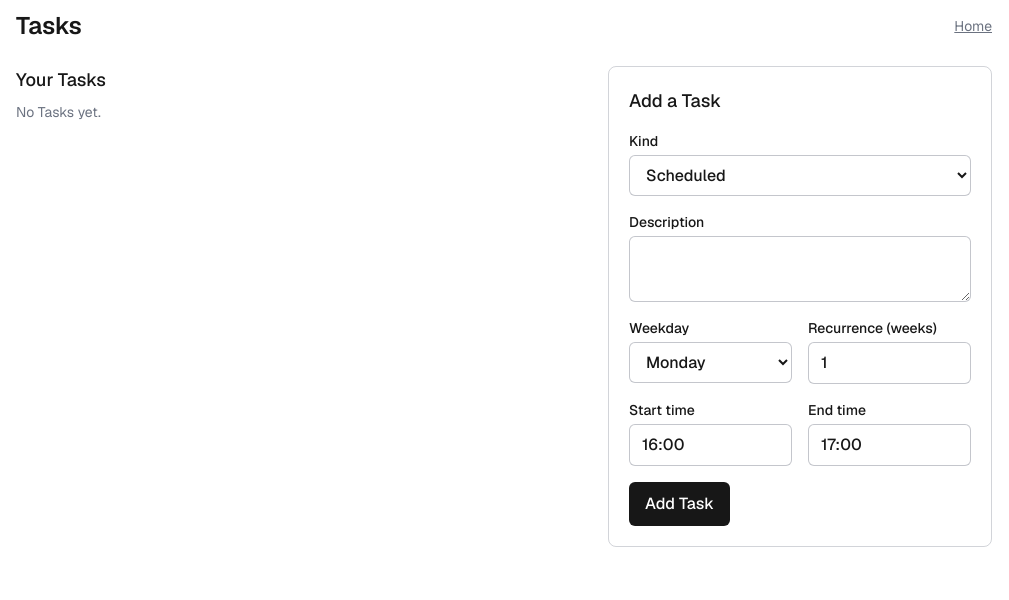
Test: Tasks page › submits 24-hour times typed as digits
Replace the text in the field labelled "Start time" with "1600" at (710, 445), box [629,424,792,466]
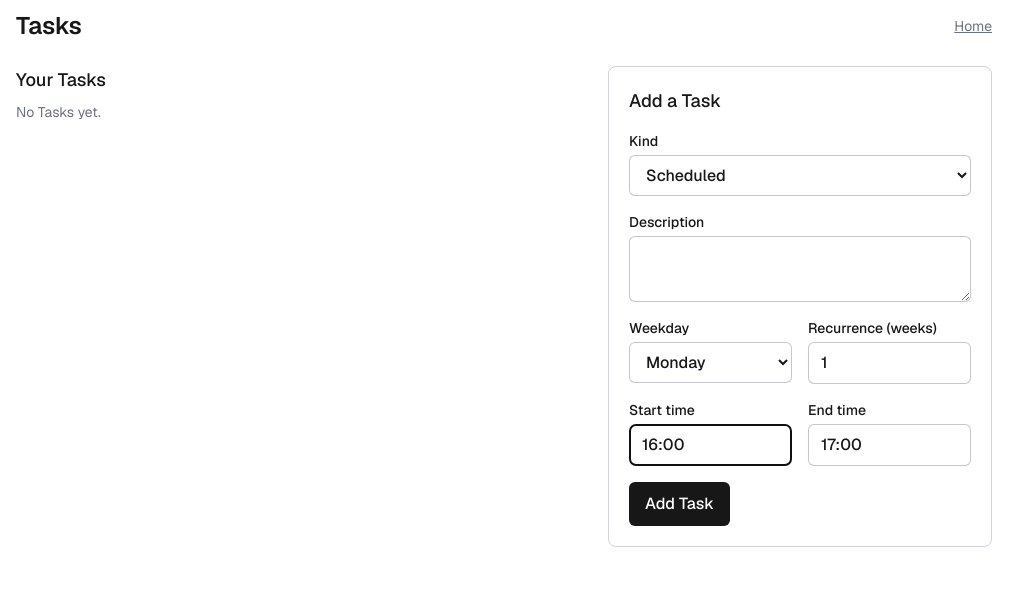
Replace the text in the field labelled "End time" with "1730" at (890, 445), box [808,424,971,466]
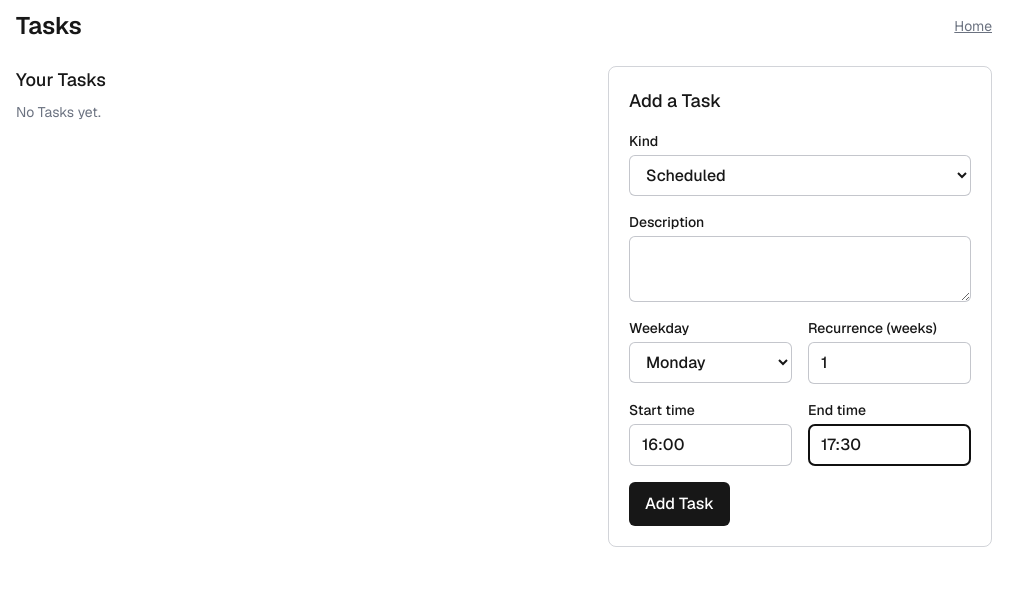
Type "Morning run" into the text box labelled "Description" at (800, 269), box [629,236,971,302]
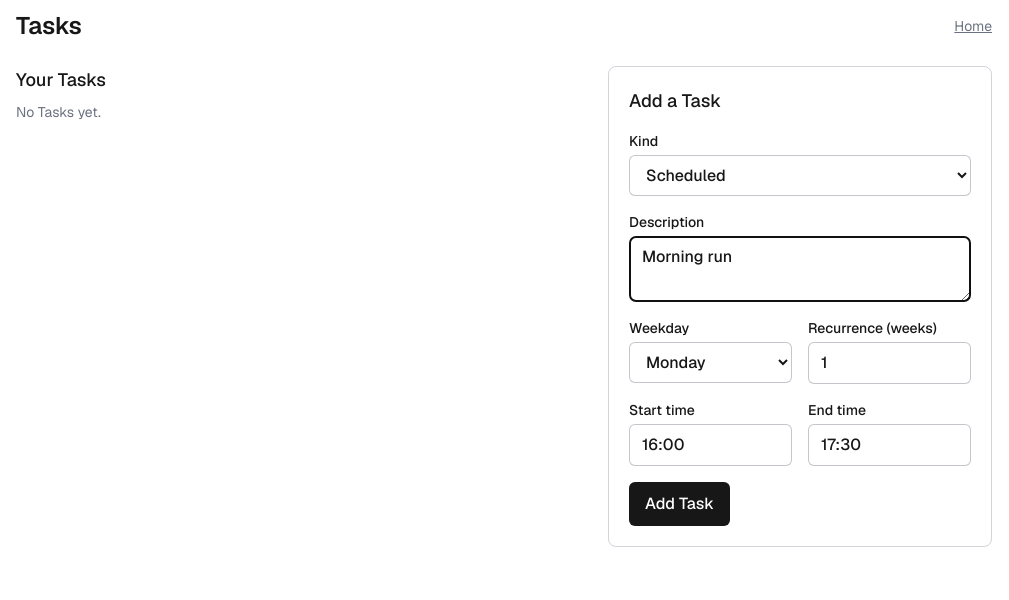
Expected: the field labelled "Start time" holds "16:00", [629,424,792,466]
Expected: the field labelled "End time" holds "17:30", [808,424,971,466]
Click the button "Add Task" at (680, 504), box [629,482,730,526]
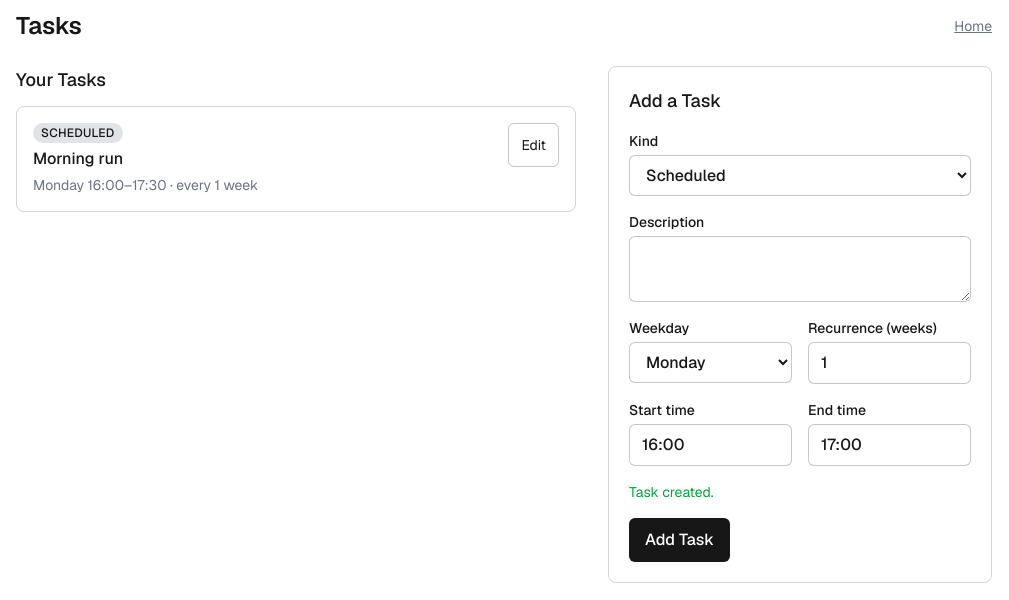
Expected: the text "Task created." is shown, [629,483,714,501]
